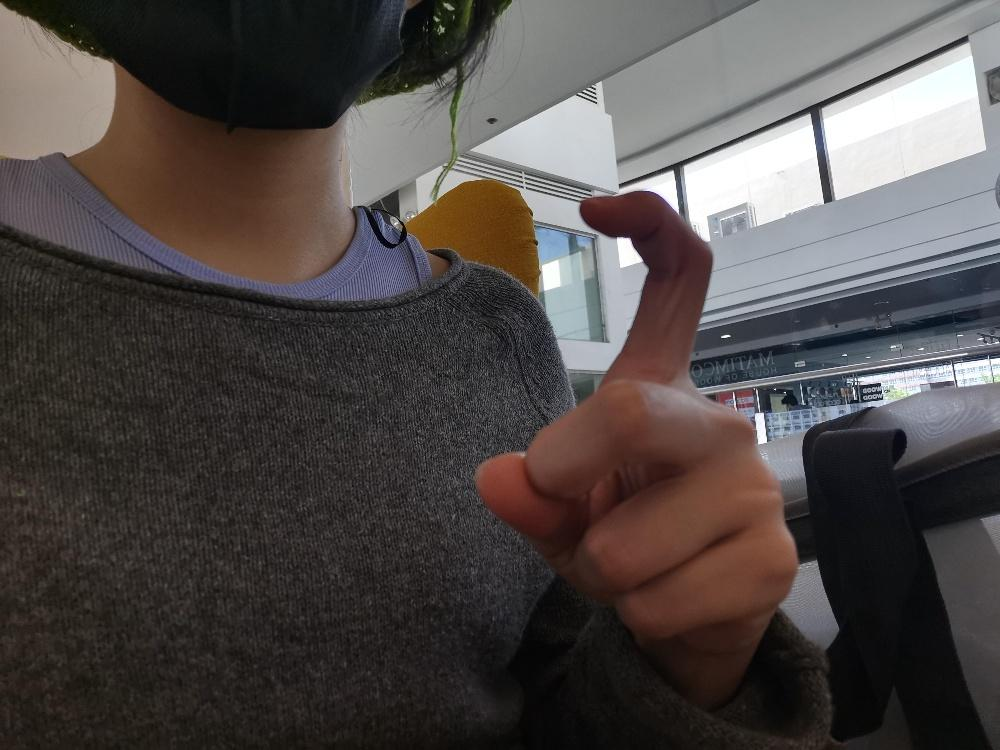x: (471, 186, 798, 655)
